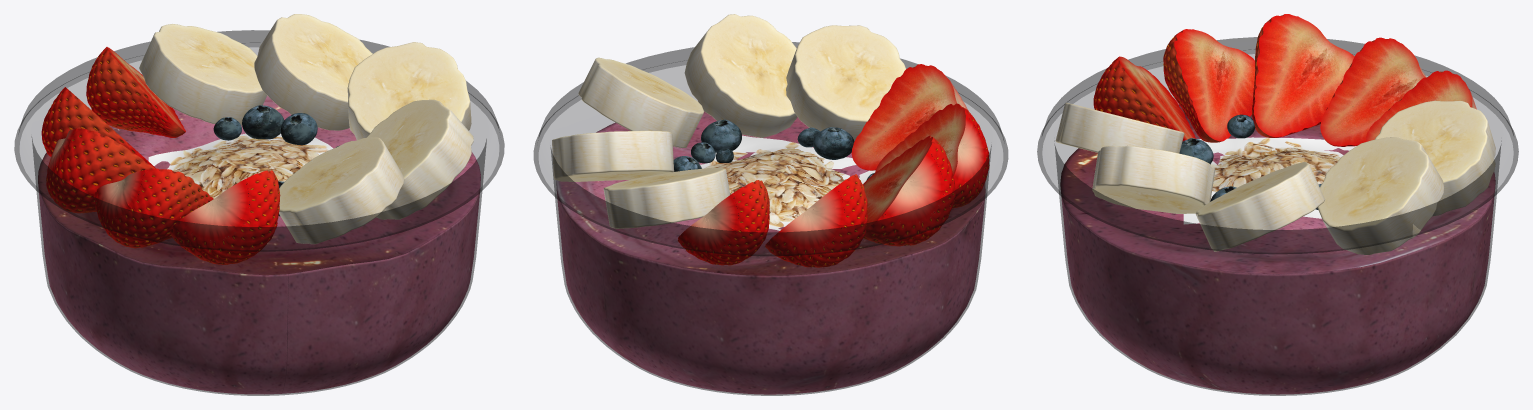
The model's file is acai_bowl.glb.
3 renders of one model, left to right at view 1: azimuth 30°, elevation 25°; view 2: azimuth 150°, elevation 25°; view 3: azimuth 270°, elevation 25°, orthographic. The views are drawn at different scales.
Visible parts, largest first — view 1: Object_3, Object_2, Object_7, Object_5, Object_6, Object_4, Object_8; view 2: Object_3, Object_2, Object_7, Object_5, Object_6, Object_4, Object_8; view 3: Object_3, Object_2, Object_7, Object_5, Object_6, Object_4, Object_8.
Boxes of the visible parts, <box> form: Object_3: <box>14,30,504,395</box>; Object_2: <box>38,95,480,394</box>; Object_7: <box>139,14,473,244</box>; Object_5: <box>41,47,280,264</box>; Object_6: <box>42,54,213,248</box>; Object_4: <box>148,133,333,198</box>; Object_8: <box>213,105,339,216</box>; Object_3: <box>533,42,1008,395</box>; Object_2: <box>556,111,985,394</box>; Object_7: <box>552,14,905,228</box>; Object_5: <box>678,64,988,267</box>; Object_6: <box>678,103,989,267</box>; Object_4: <box>700,135,875,230</box>; Object_8: <box>673,119,875,180</box>; Object_3: <box>1037,37,1518,395</box>; Object_2: <box>1060,105,1495,394</box>; Object_7: <box>1055,100,1495,254</box>; Object_5: <box>1093,14,1472,142</box>; Object_6: <box>1163,29,1476,146</box>; Object_4: <box>1183,137,1356,224</box>; Object_8: <box>1179,114,1321,209</box>.
Size of the model in its own units: 2.88 by 1.63 by 2.88.
6 materials, 5 textured.
